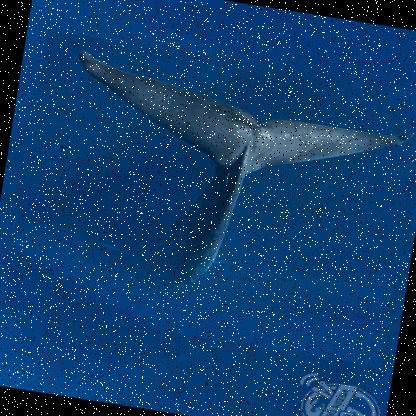blue_whale: (2, 29, 415, 367)
